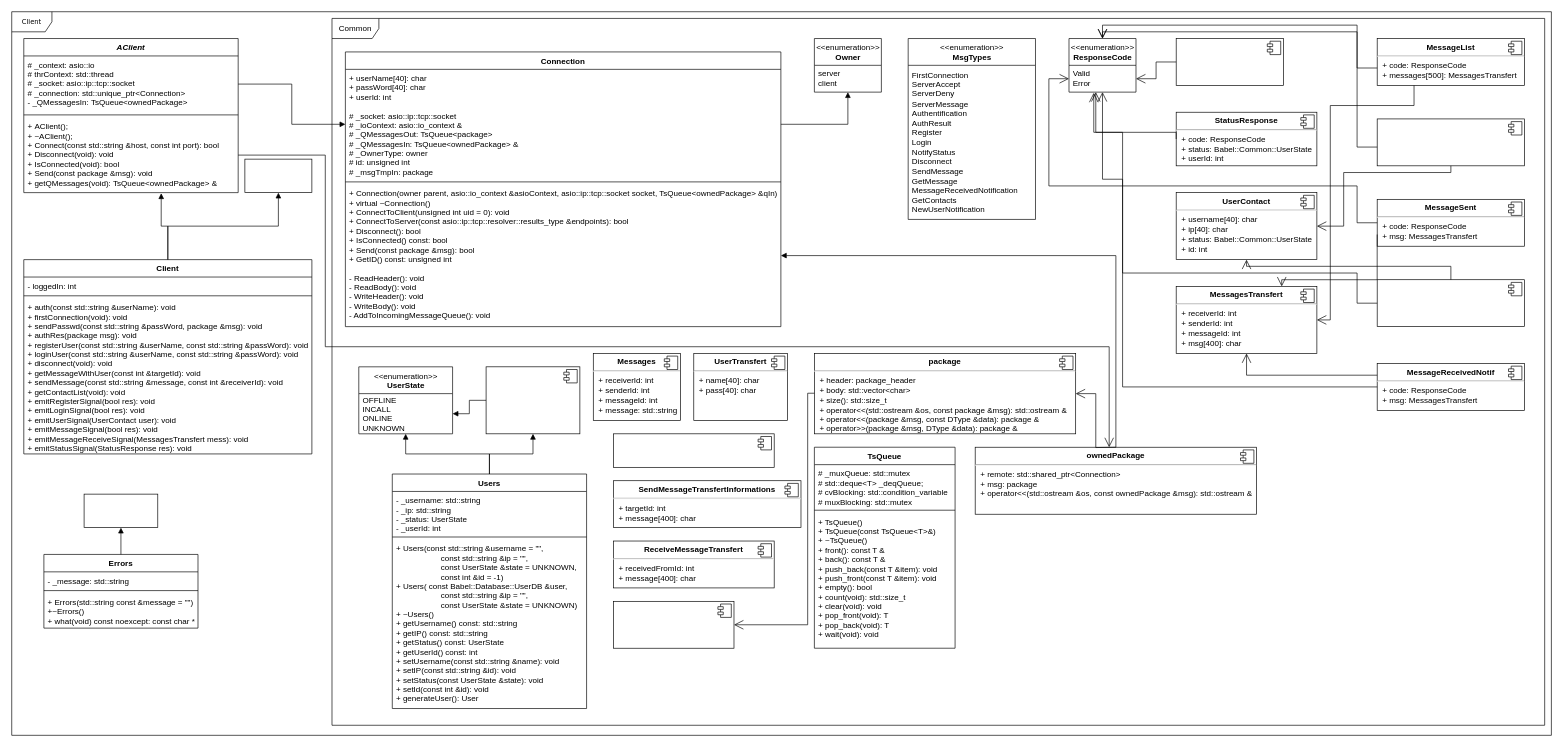
Image size: 1563x747. Some labels were removed from this diagram. Each missing label, with the centre of its shape:
"MessageTransfertInformations + targetId: int" goes at (x=693, y=450).
"NewUserNotif + code: ResponseCode + contact: UserContact" goes at (x=1451, y=303).
"package_header + id: MsgTypes + size: std::size_t" goes at (x=673, y=624).
"QOBJECT (qt)" goes at (x=278, y=175).
"Response + code: ResponseCode + msg[40]: char" goes at (x=1229, y=61).
"std::exception" goes at (x=120, y=510).
"User + id: int + username: std::string + ip: string + status: UserState" goes at (x=532, y=400).
"UserContactList + code: ResponseCode + users[400]: UserContact" goes at (x=1451, y=142).
